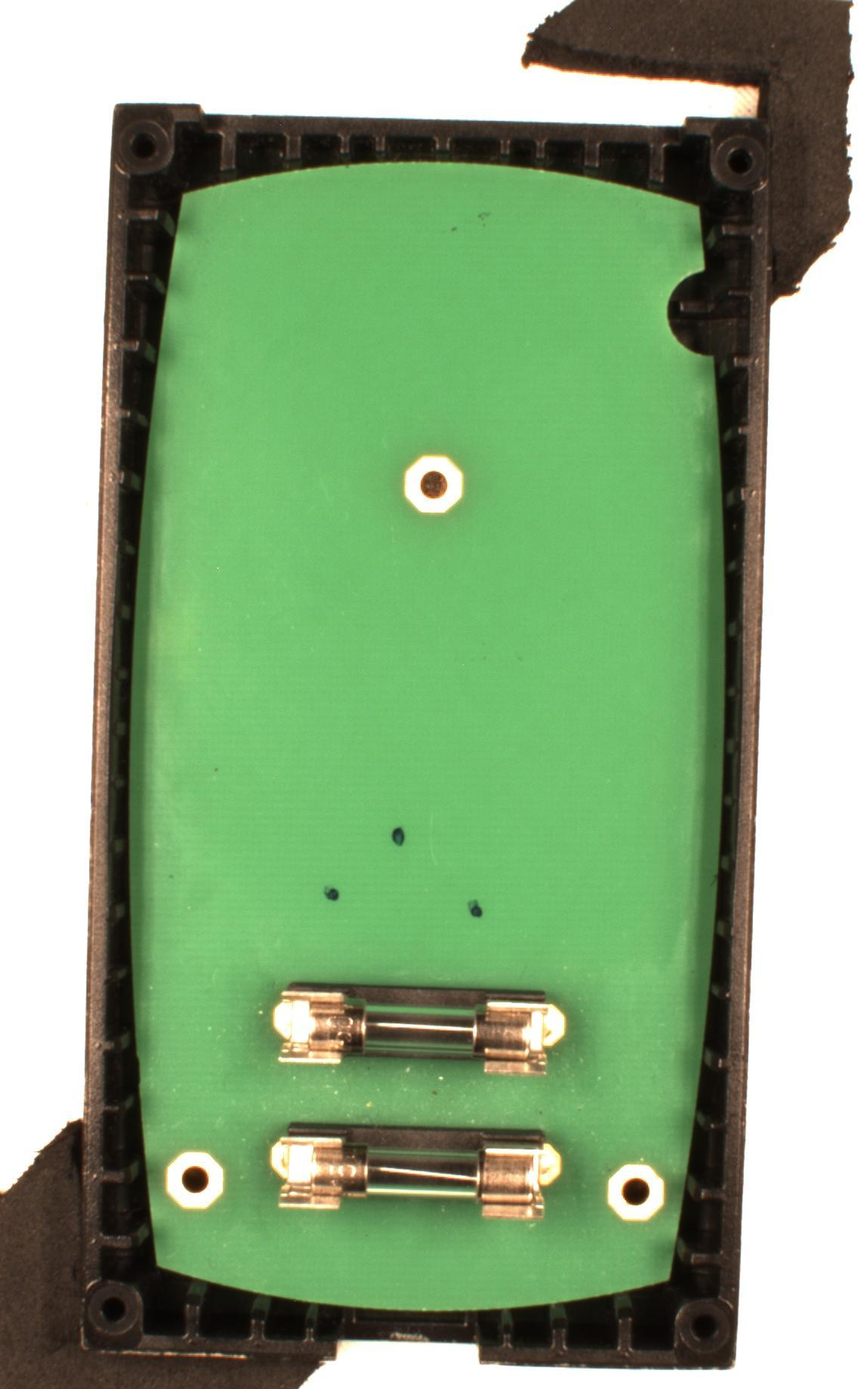Tockasto Ostecenje: (465, 897, 488, 919), (321, 883, 344, 904), (390, 824, 409, 848)
